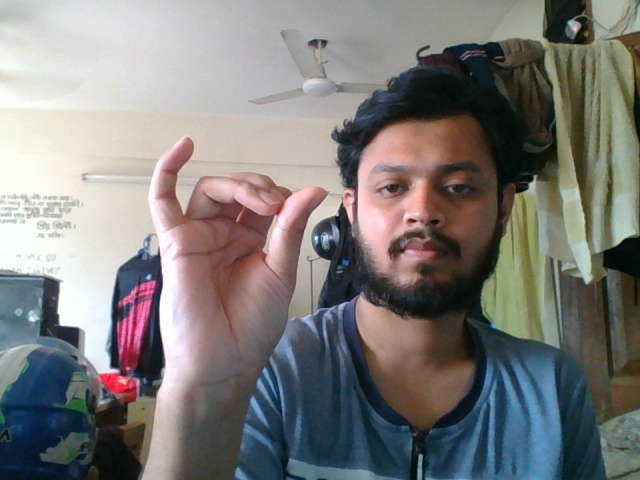oi: (142, 130, 334, 428)
